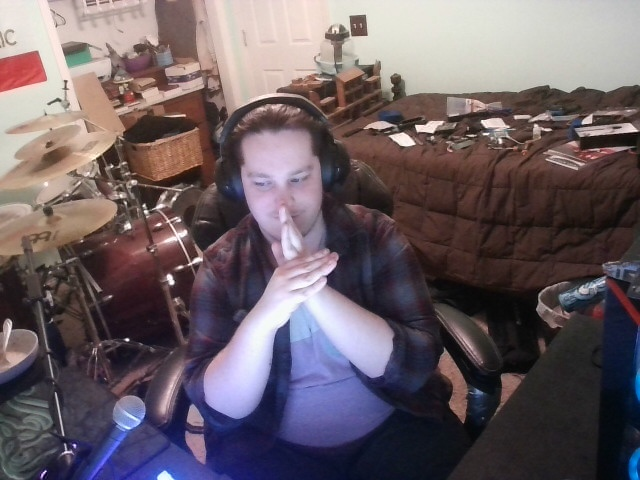quiet: (235, 196, 365, 331)
